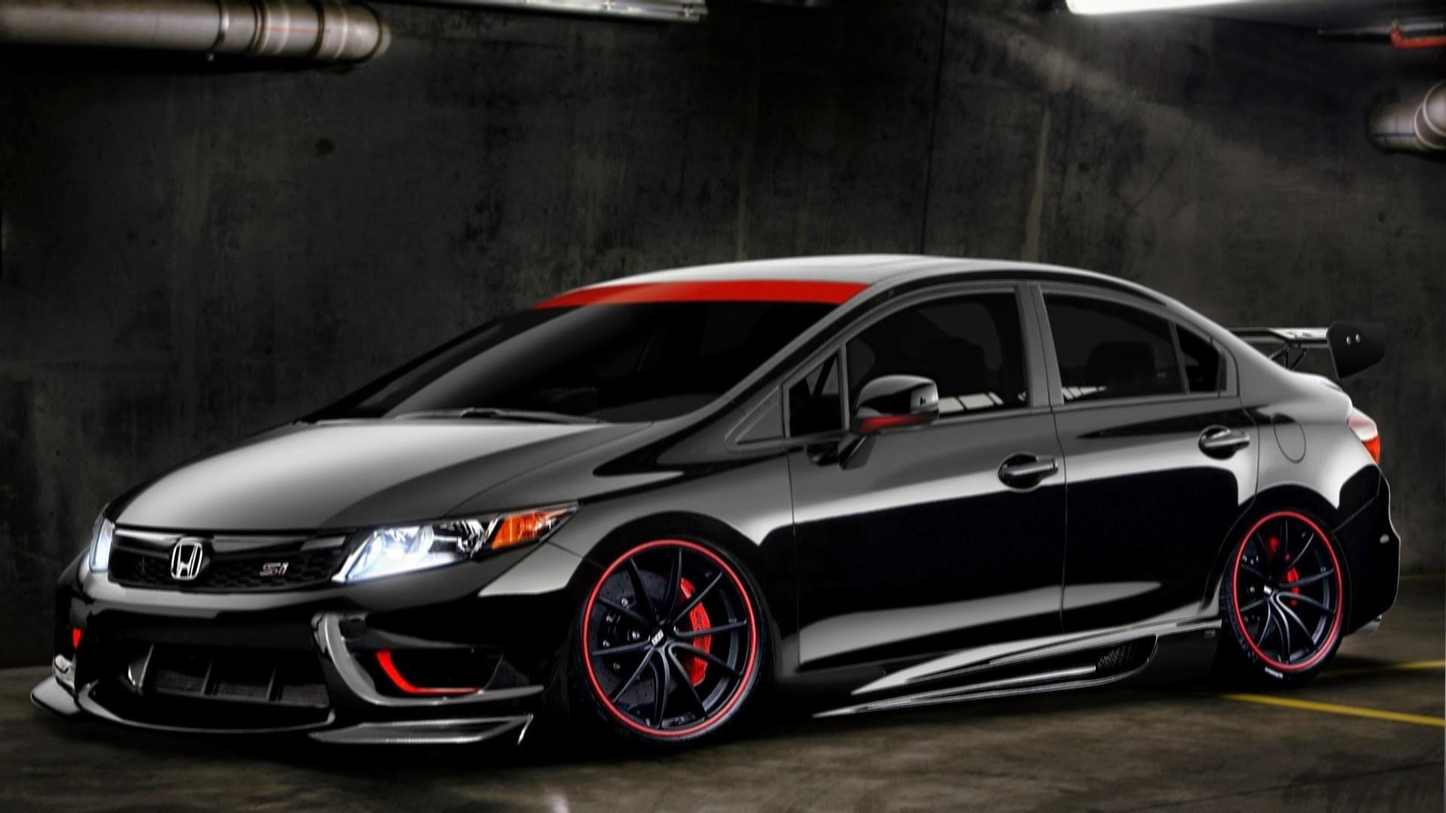Car hood: (91, 414, 676, 553)
Fender - -F-L-: (455, 412, 802, 738)
Fender - -R-L-: (1228, 314, 1386, 546)
Front bumper: (23, 560, 575, 776)
Headlight - -L-: (322, 489, 588, 593)
Headlight - -R-: (66, 502, 135, 608)
Passenger-s door - -F-L-: (783, 266, 1062, 680)
Passenger-s door - -R-L-: (1044, 268, 1268, 650)
Rear bumper: (1329, 484, 1411, 645)
Rear light - -L-: (1331, 380, 1419, 480)
Side bumper - -L-: (765, 619, 1243, 733)
Side mirror - -L-: (836, 361, 957, 454)
